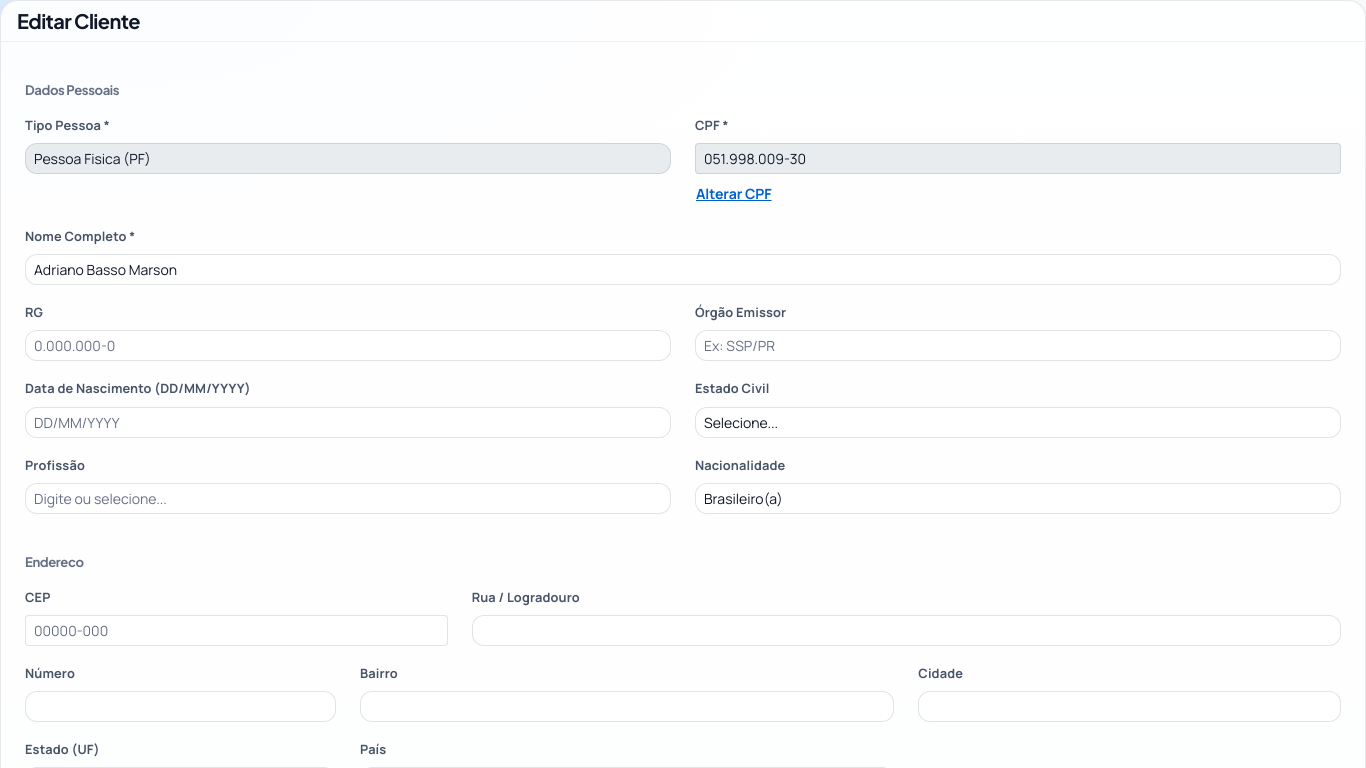
ClienteForm › libera edicao de CPF ao clicar no botao Alterar CPF
The width and height of the screenshot is (1366, 768).
Expected: the field labelled "CPF *" is disabled, [695,143,1341,174]
Step 1. Click the button "Alterar CPF" → (734, 193), box [695,178,772,209]
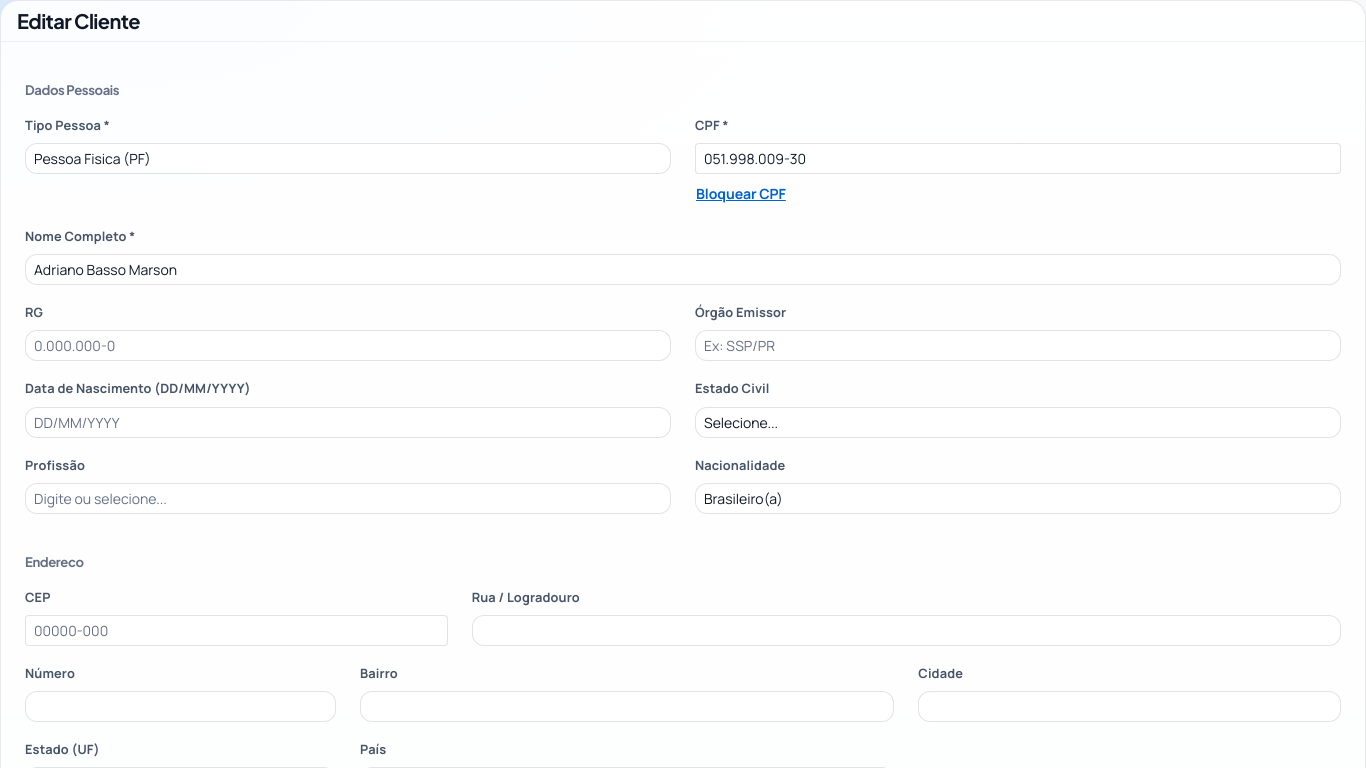
Step 2. Replace the text in the field labelled "CPF *" with "12345678901" → (1018, 158), box [695,143,1341,174]
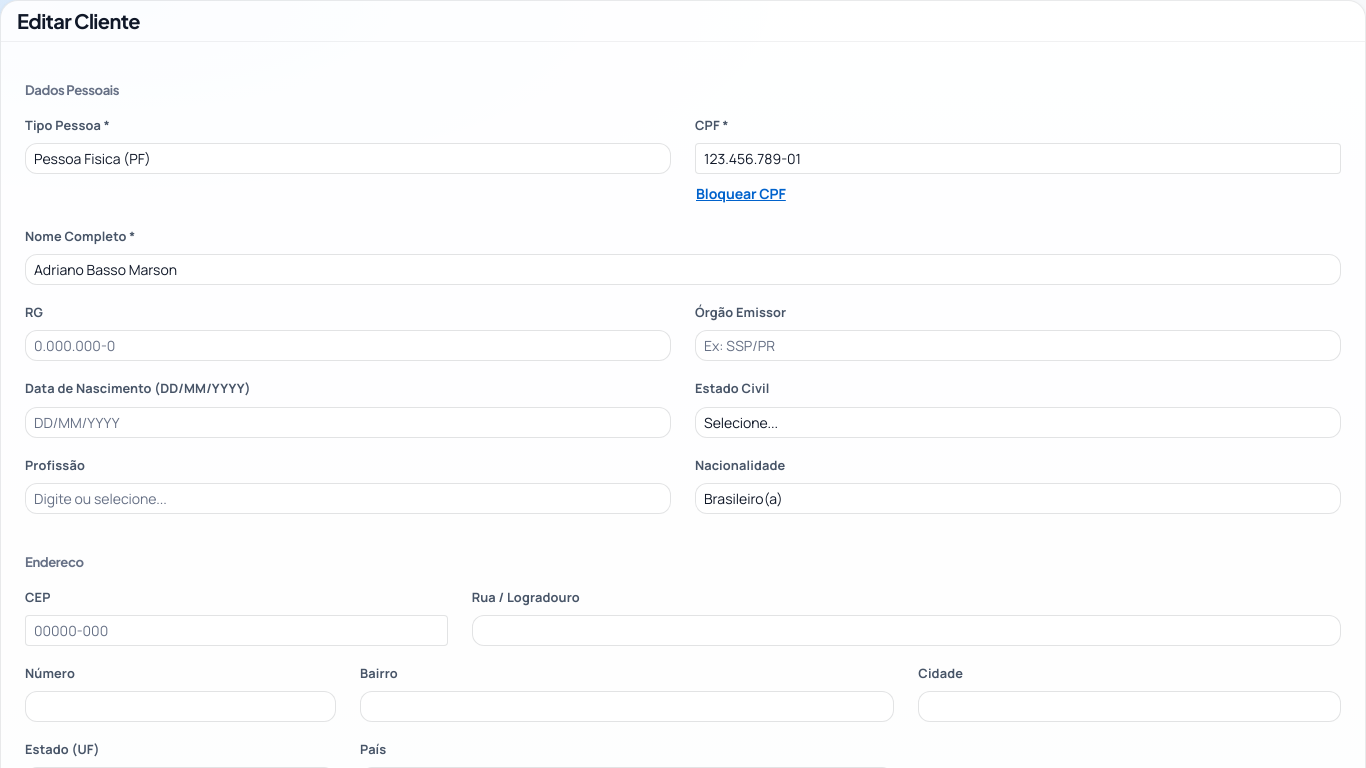
Result: the field labelled "CPF *" holds "123.456.789-01" at [695,143,1341,174]
